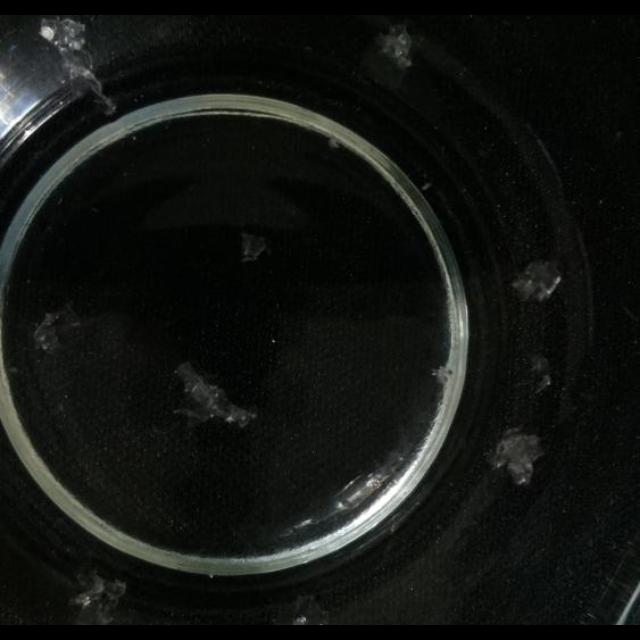Fibre: (38, 18, 108, 108), (490, 428, 544, 486), (72, 574, 128, 622), (378, 23, 414, 67), (432, 364, 454, 386), (328, 136, 342, 150)
Fragment: (174, 362, 256, 428), (34, 304, 84, 354), (511, 258, 561, 304), (240, 232, 270, 262)
